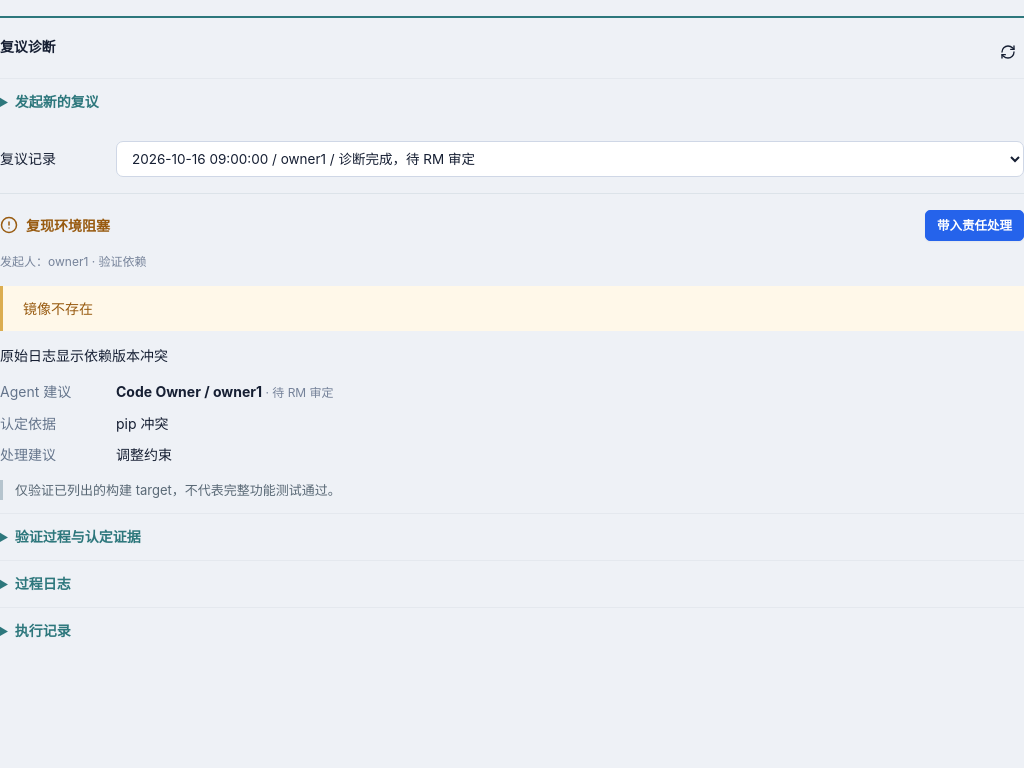
FailureReproPanel › loads logs only on expansion, supports older pages and download
Expected: the text "复现环境阻塞" is shown, [0,214,110,236]
Click the heading "过程日志": (43, 583) [15,575,71,592]
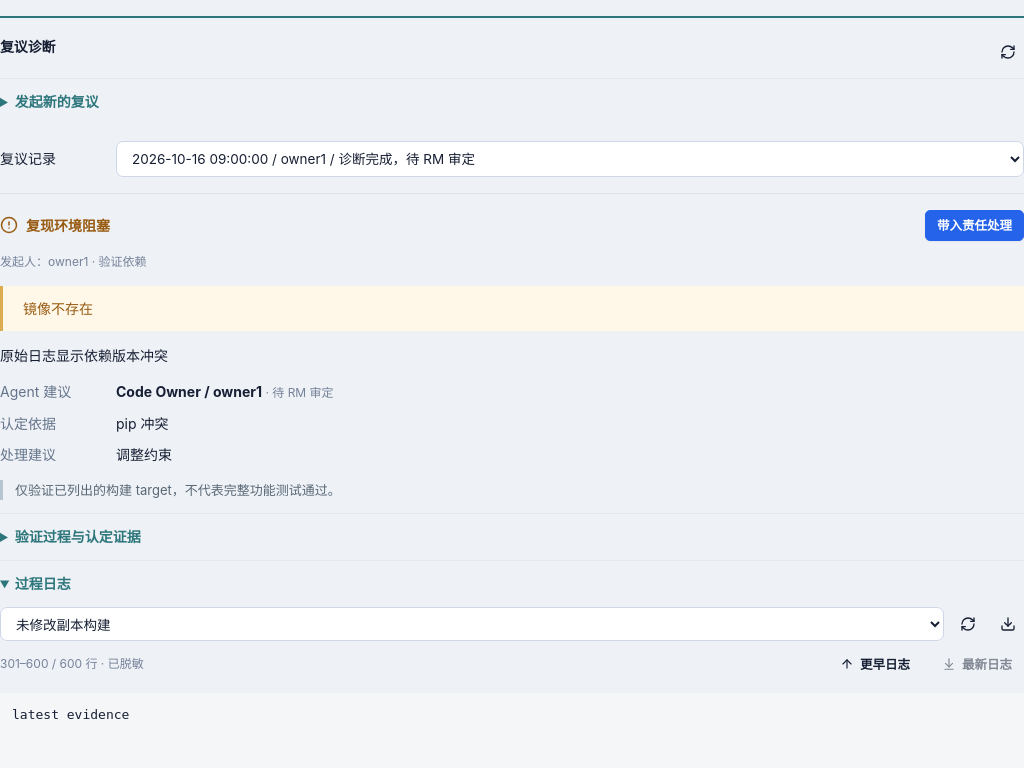
Now the text "latest evidence" is shown, box [12,707,129,722]
Click the button "更早日志": (875, 664) [828,649,922,680]
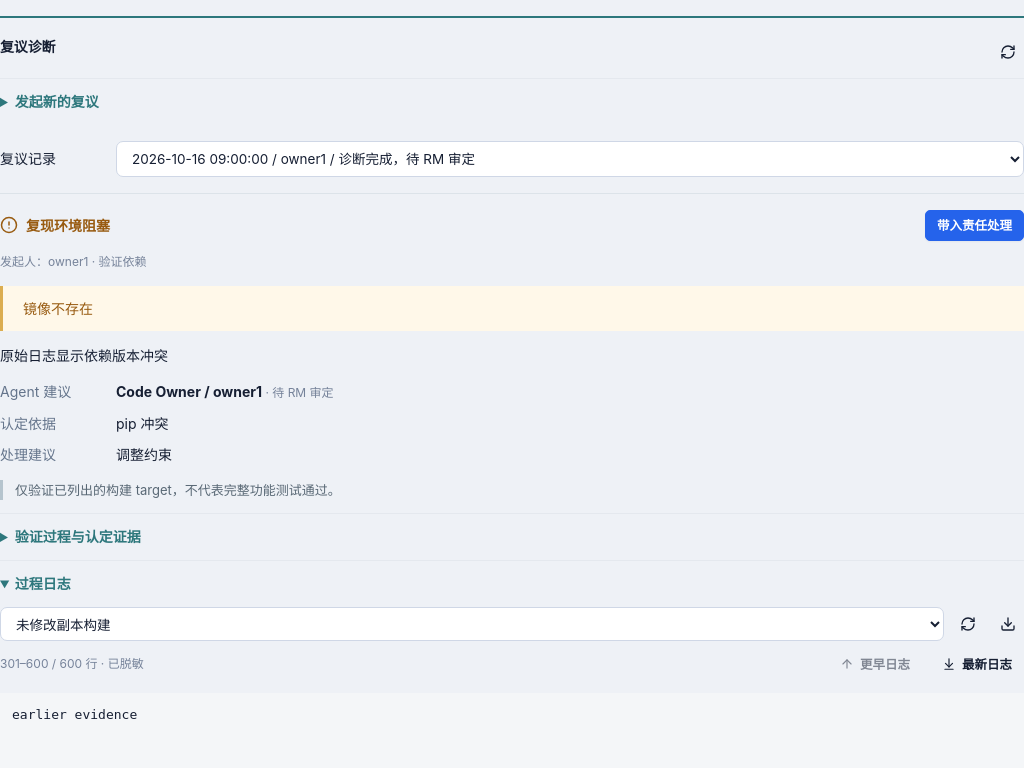
Now the text "earlier evidence" is shown, box [12,707,137,722]
Click the button "最新日志": (977, 664) [930,649,1023,680]
(page scrolled)
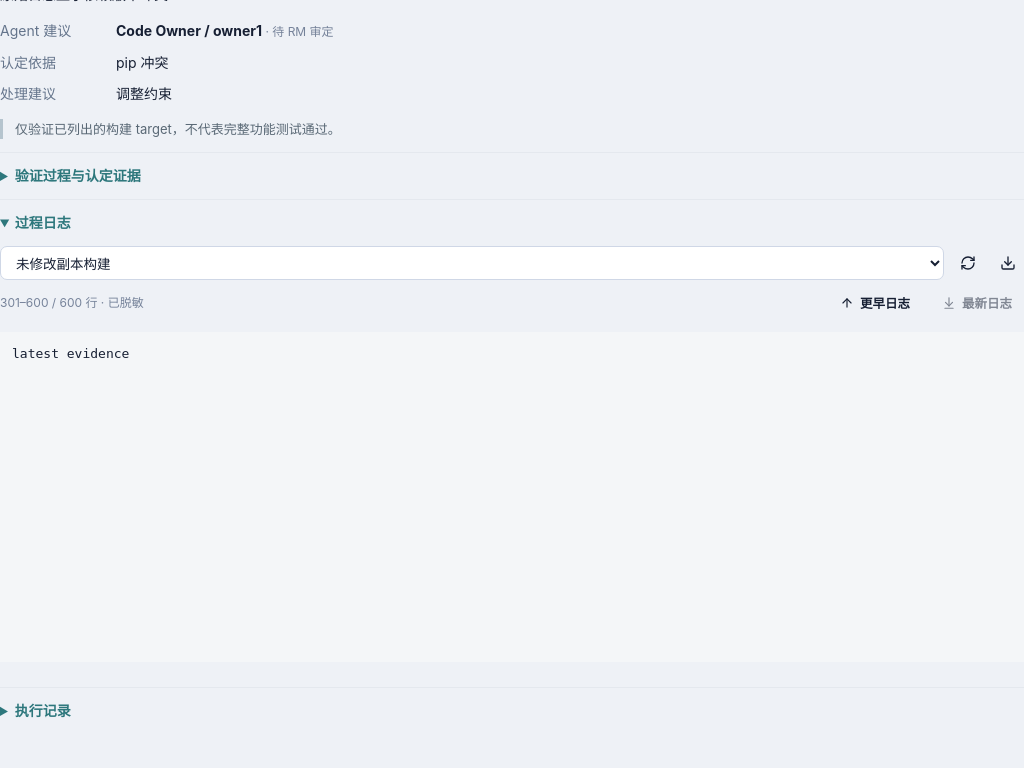
Now the text "latest evidence" is shown, box [0,332,1023,662]
